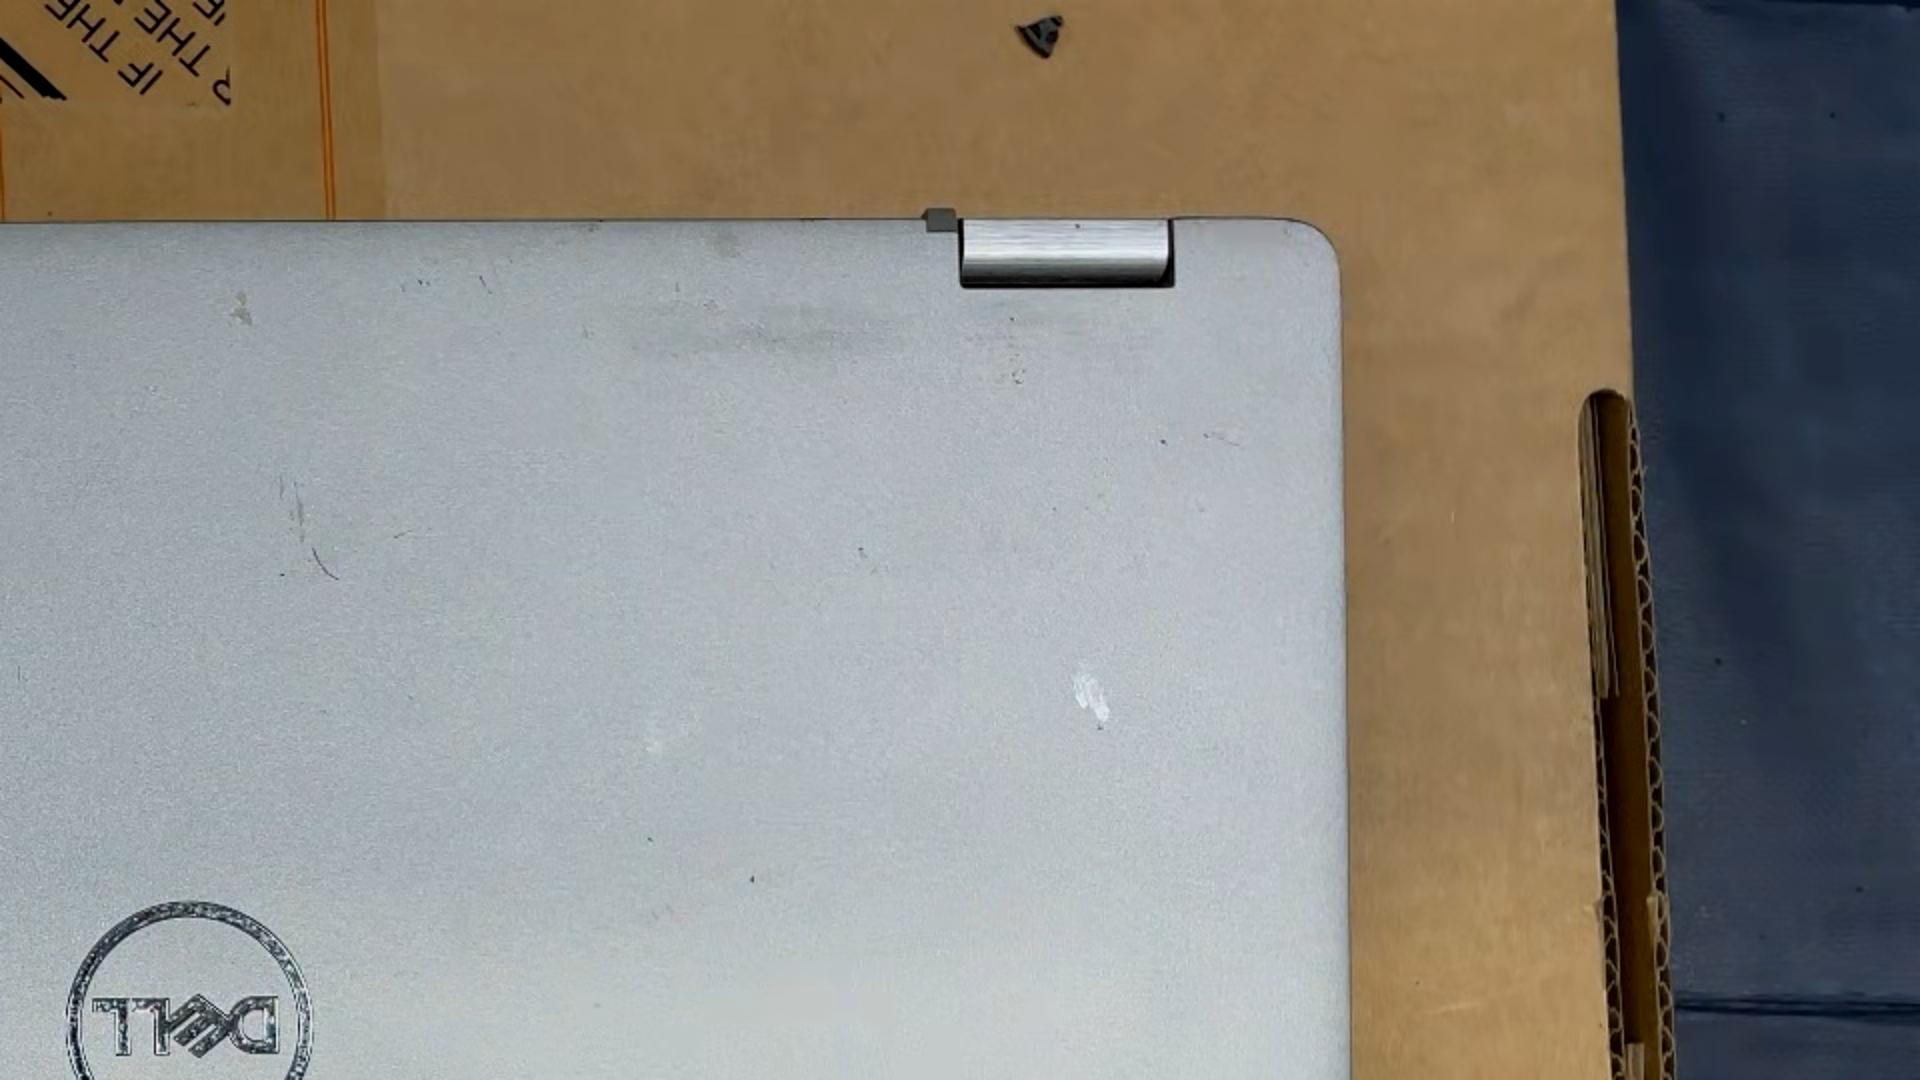scratches: (310, 546, 340, 582), (393, 524, 421, 539), (477, 274, 496, 295), (749, 873, 756, 885)
